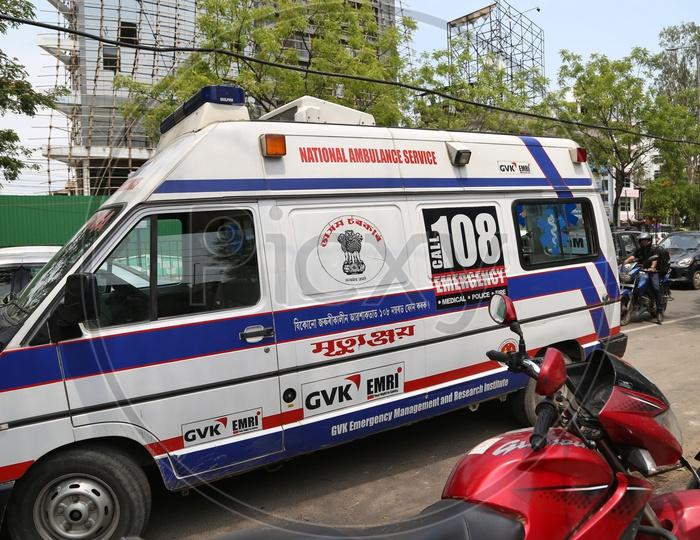ER: (0, 85, 651, 540)
